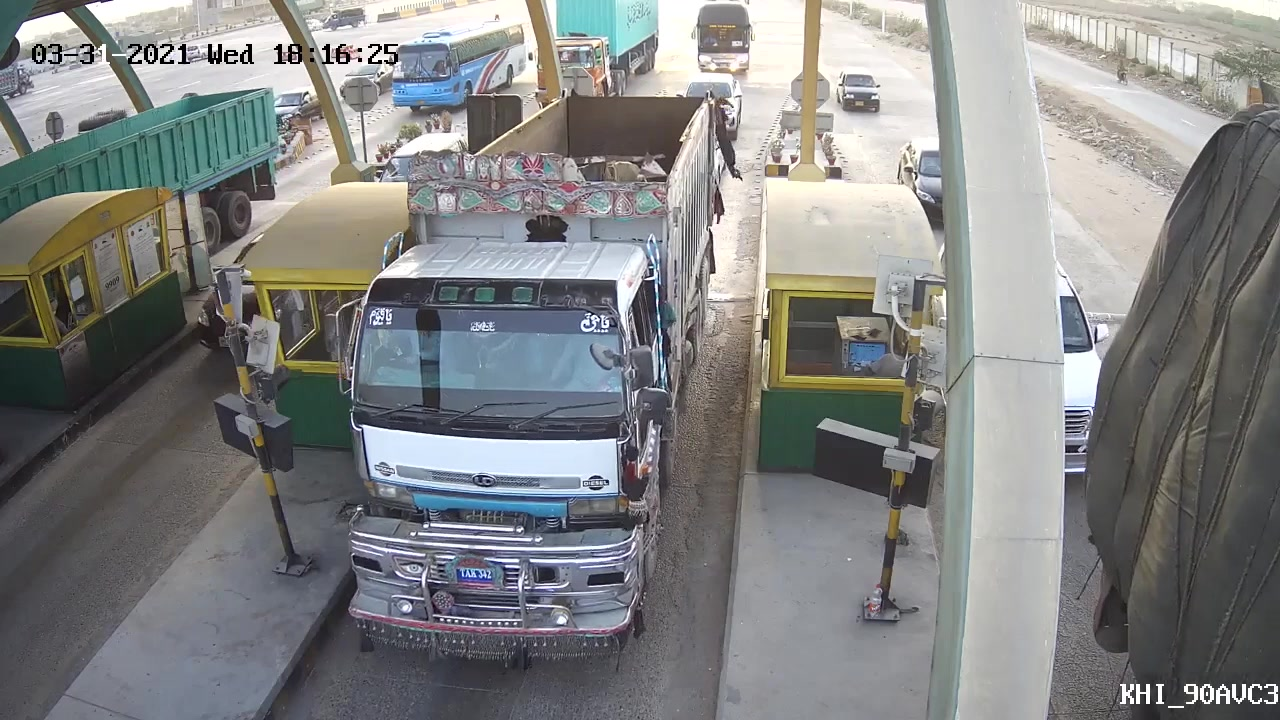F5: (326, 87, 736, 676)
